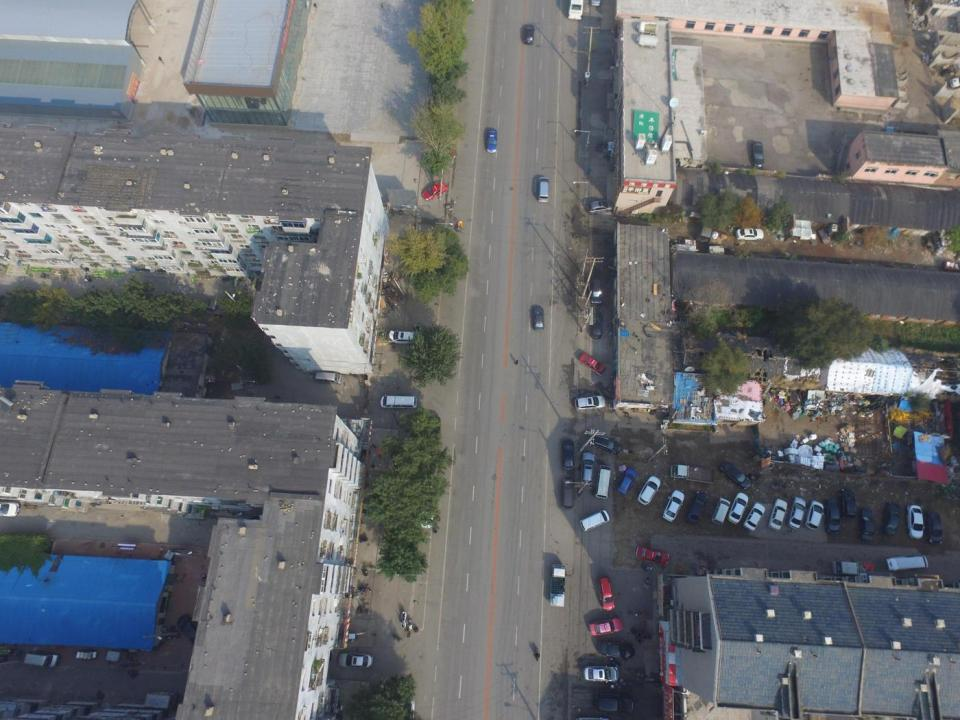car: (718, 461, 752, 490), (594, 692, 635, 714), (685, 490, 709, 525), (176, 614, 202, 646), (597, 639, 636, 660), (577, 351, 607, 377), (662, 489, 685, 522), (881, 500, 901, 537), (767, 498, 788, 532), (727, 492, 749, 524), (582, 664, 619, 683), (637, 476, 660, 506), (905, 504, 924, 540), (588, 617, 624, 636), (743, 502, 765, 533), (786, 496, 806, 530), (824, 498, 842, 535), (925, 510, 944, 545), (636, 545, 669, 565), (338, 652, 374, 669), (805, 499, 824, 531), (839, 487, 856, 522), (573, 394, 606, 412), (590, 435, 620, 454), (859, 507, 875, 542), (421, 181, 448, 201), (617, 467, 637, 494), (580, 451, 595, 486), (388, 329, 420, 345), (586, 199, 614, 216), (561, 438, 575, 470), (734, 227, 764, 241), (588, 275, 602, 305), (750, 141, 764, 169), (590, 312, 604, 340), (189, 298, 219, 310), (0, 501, 20, 518), (532, 306, 545, 332), (486, 128, 497, 154), (523, 24, 535, 45)
truck: (669, 463, 715, 485), (831, 560, 876, 579), (549, 564, 565, 607)
van: (884, 555, 928, 572), (578, 509, 610, 531), (597, 575, 616, 612), (710, 497, 731, 527), (23, 651, 60, 668), (595, 464, 612, 500), (380, 394, 416, 410), (560, 478, 575, 510), (315, 371, 343, 385), (538, 177, 549, 203)
